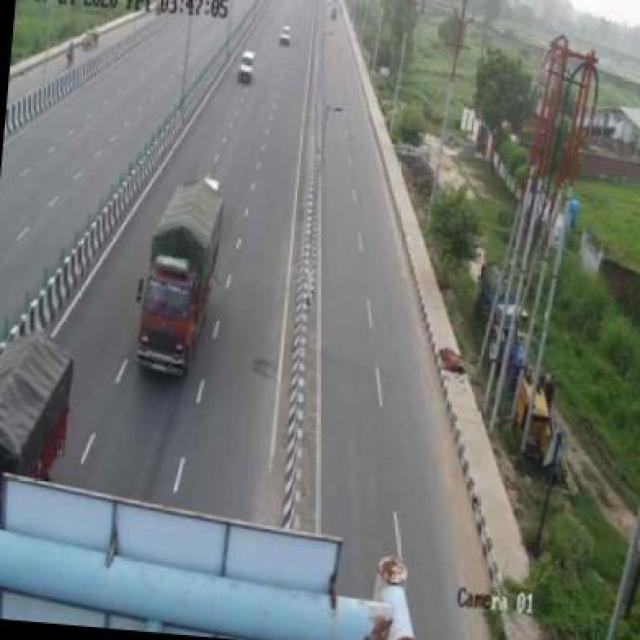car: (234, 41, 266, 88), (274, 21, 297, 51)
